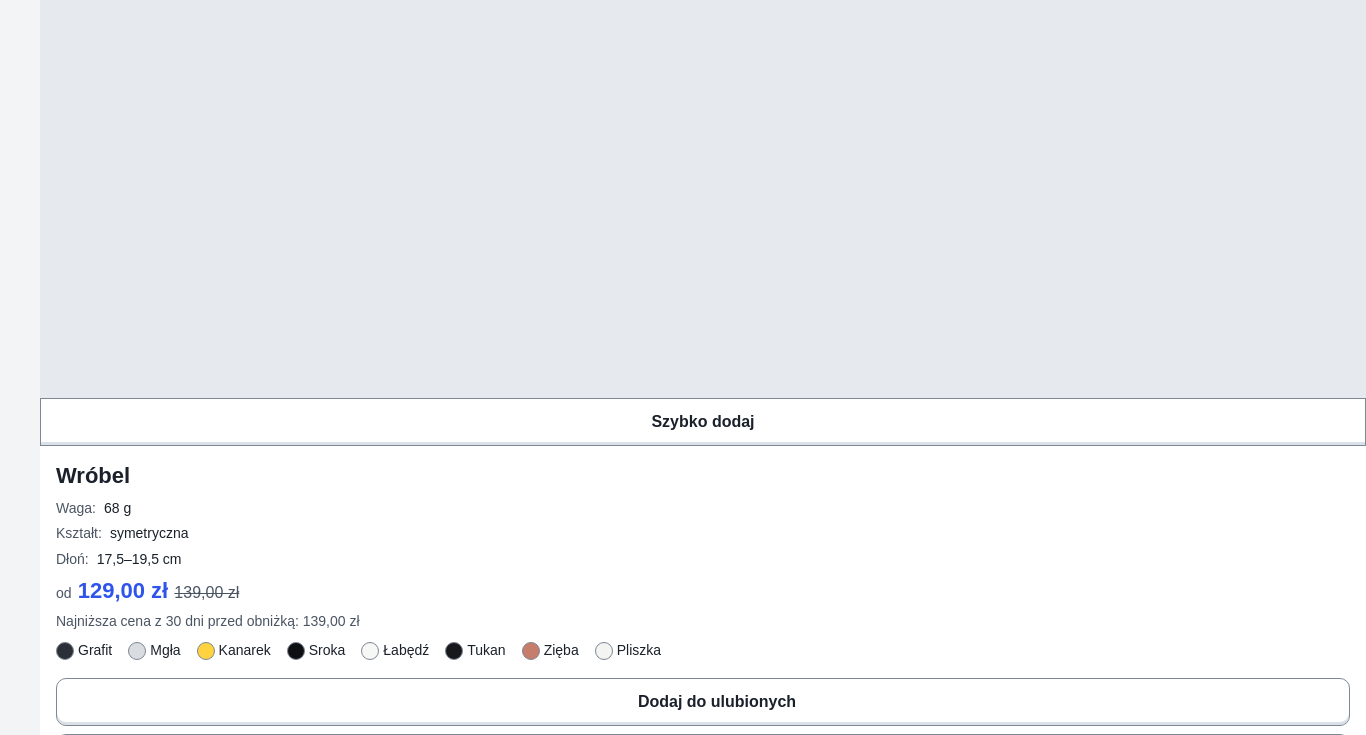
it: panel wyboru wariantu (F-043) › blad pobrania: komunikat zamiast pickera, bez wyjatku
(page scrolled)
Click the button "Szybko dodaj": (703, 422) [40, 398, 1365, 446]
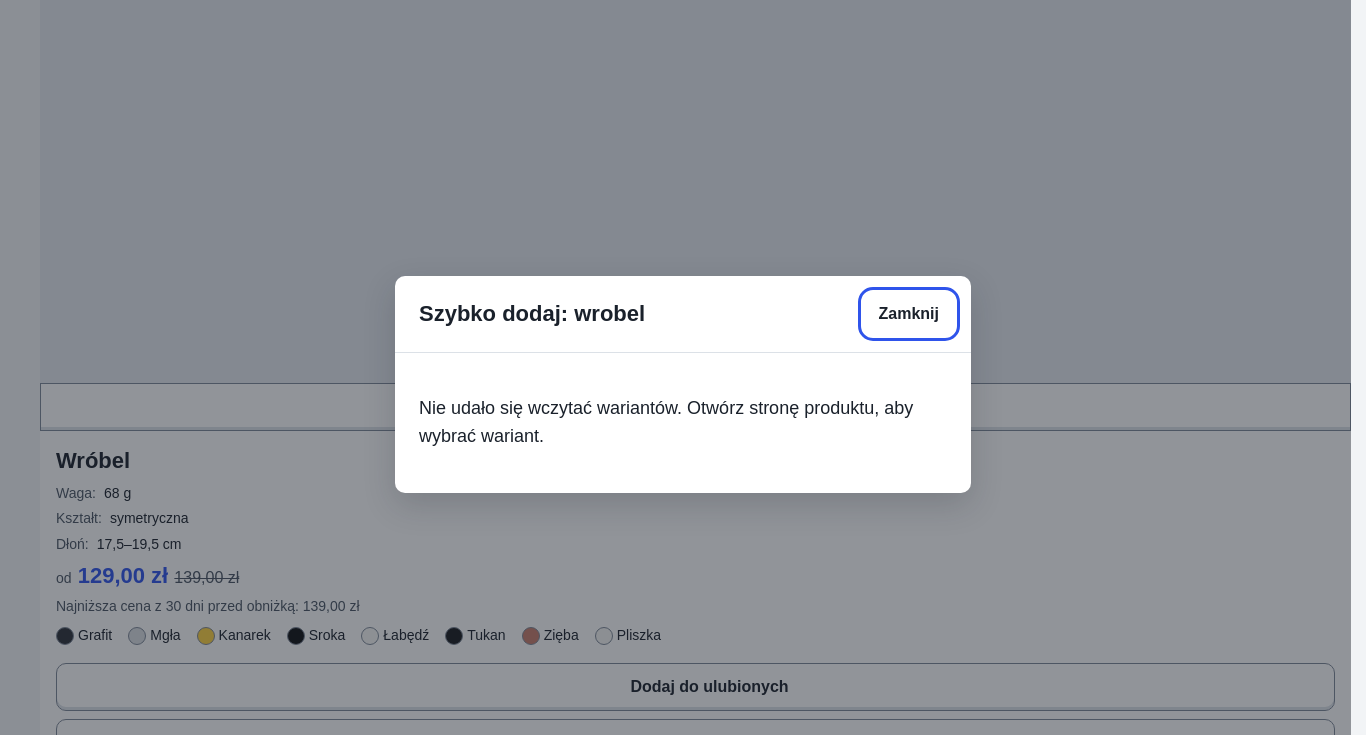
Check: the message shows "Nie udało się wczytać wariantów", box [419, 398, 913, 446]
